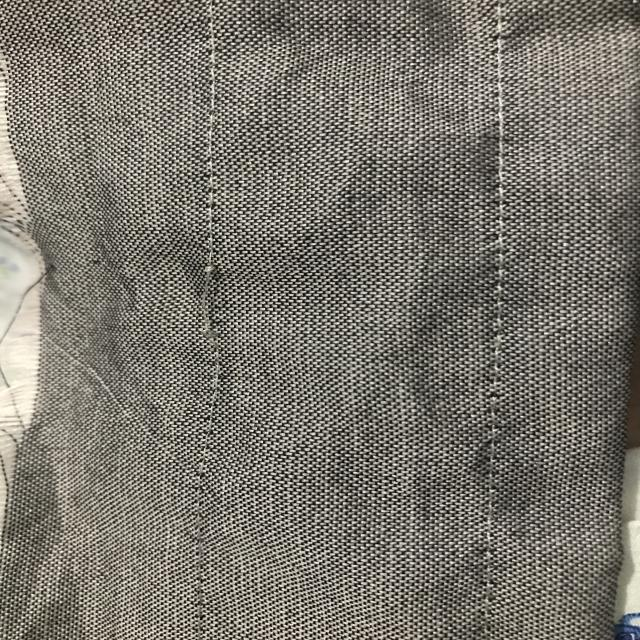good: (486, 180, 519, 304)
skip: (174, 254, 263, 358)
